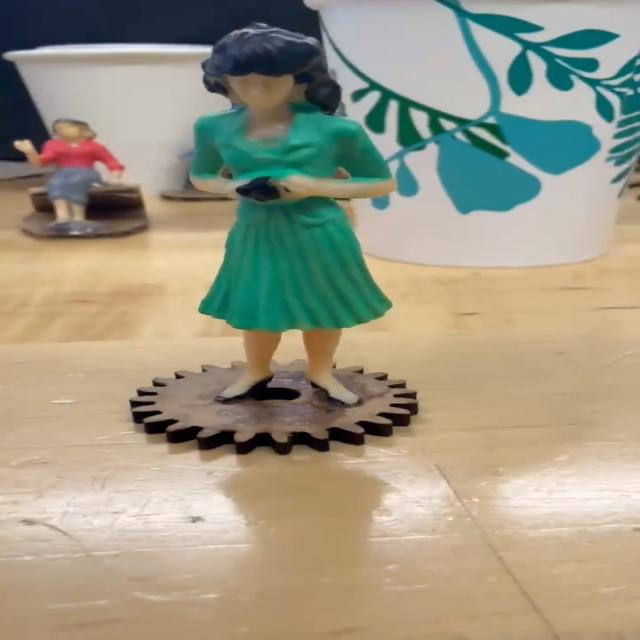Authorized: (162, 22, 413, 406)
